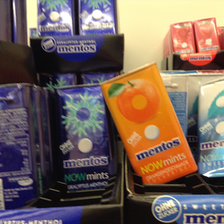candy: (101, 61, 199, 188), (50, 84, 115, 198), (78, 1, 119, 36), (35, 1, 74, 37), (193, 17, 219, 57), (169, 21, 196, 57)
